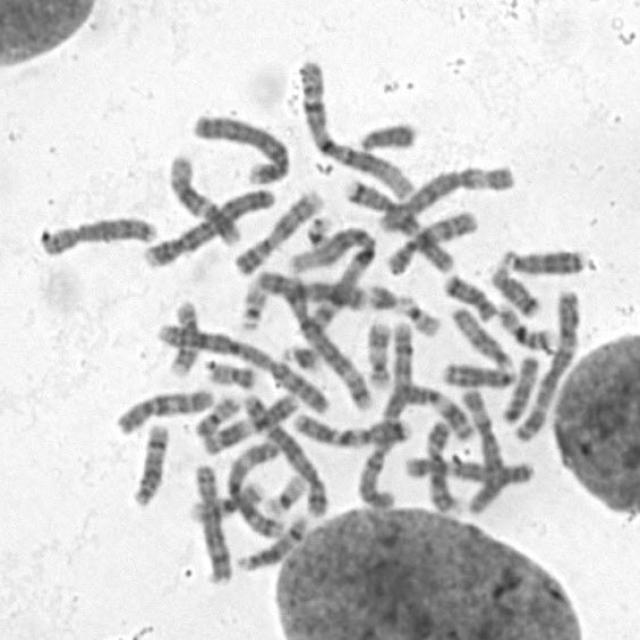A1: (294, 54, 417, 200), (286, 221, 379, 326)
A2: (150, 318, 330, 413), (353, 317, 416, 509)
A3: (508, 282, 584, 443), (223, 432, 286, 540)
B4: (139, 180, 279, 270), (186, 107, 293, 186)
B5: (257, 266, 375, 412), (238, 386, 331, 520)
C10: (381, 203, 482, 276), (111, 383, 216, 437)
C11: (198, 386, 302, 456), (389, 375, 478, 444)
C12: (163, 147, 246, 247), (398, 451, 542, 494)
C6: (372, 158, 516, 235), (456, 382, 506, 516)
C7: (340, 175, 460, 273), (288, 406, 412, 449)
C8: (35, 209, 160, 258), (189, 458, 235, 586)
C9: (230, 185, 326, 277), (422, 414, 464, 516)
D13: (498, 241, 592, 277), (436, 356, 518, 389)
D14: (232, 509, 310, 574), (128, 417, 172, 508)
D15: (445, 302, 514, 371), (498, 350, 542, 425)
E16: (185, 476, 267, 524), (491, 296, 558, 352)
E17: (163, 294, 203, 378), (362, 314, 394, 390)
E18: (486, 259, 544, 319), (438, 268, 499, 323)
F19: (261, 468, 308, 516), (304, 212, 338, 264)
F20: (190, 390, 243, 440), (200, 354, 260, 389)
G21: (278, 336, 325, 374), (362, 278, 401, 313)
G22: (394, 289, 443, 337), (234, 276, 270, 332)
X: (249, 264, 368, 312)
Y: (355, 116, 419, 154)
